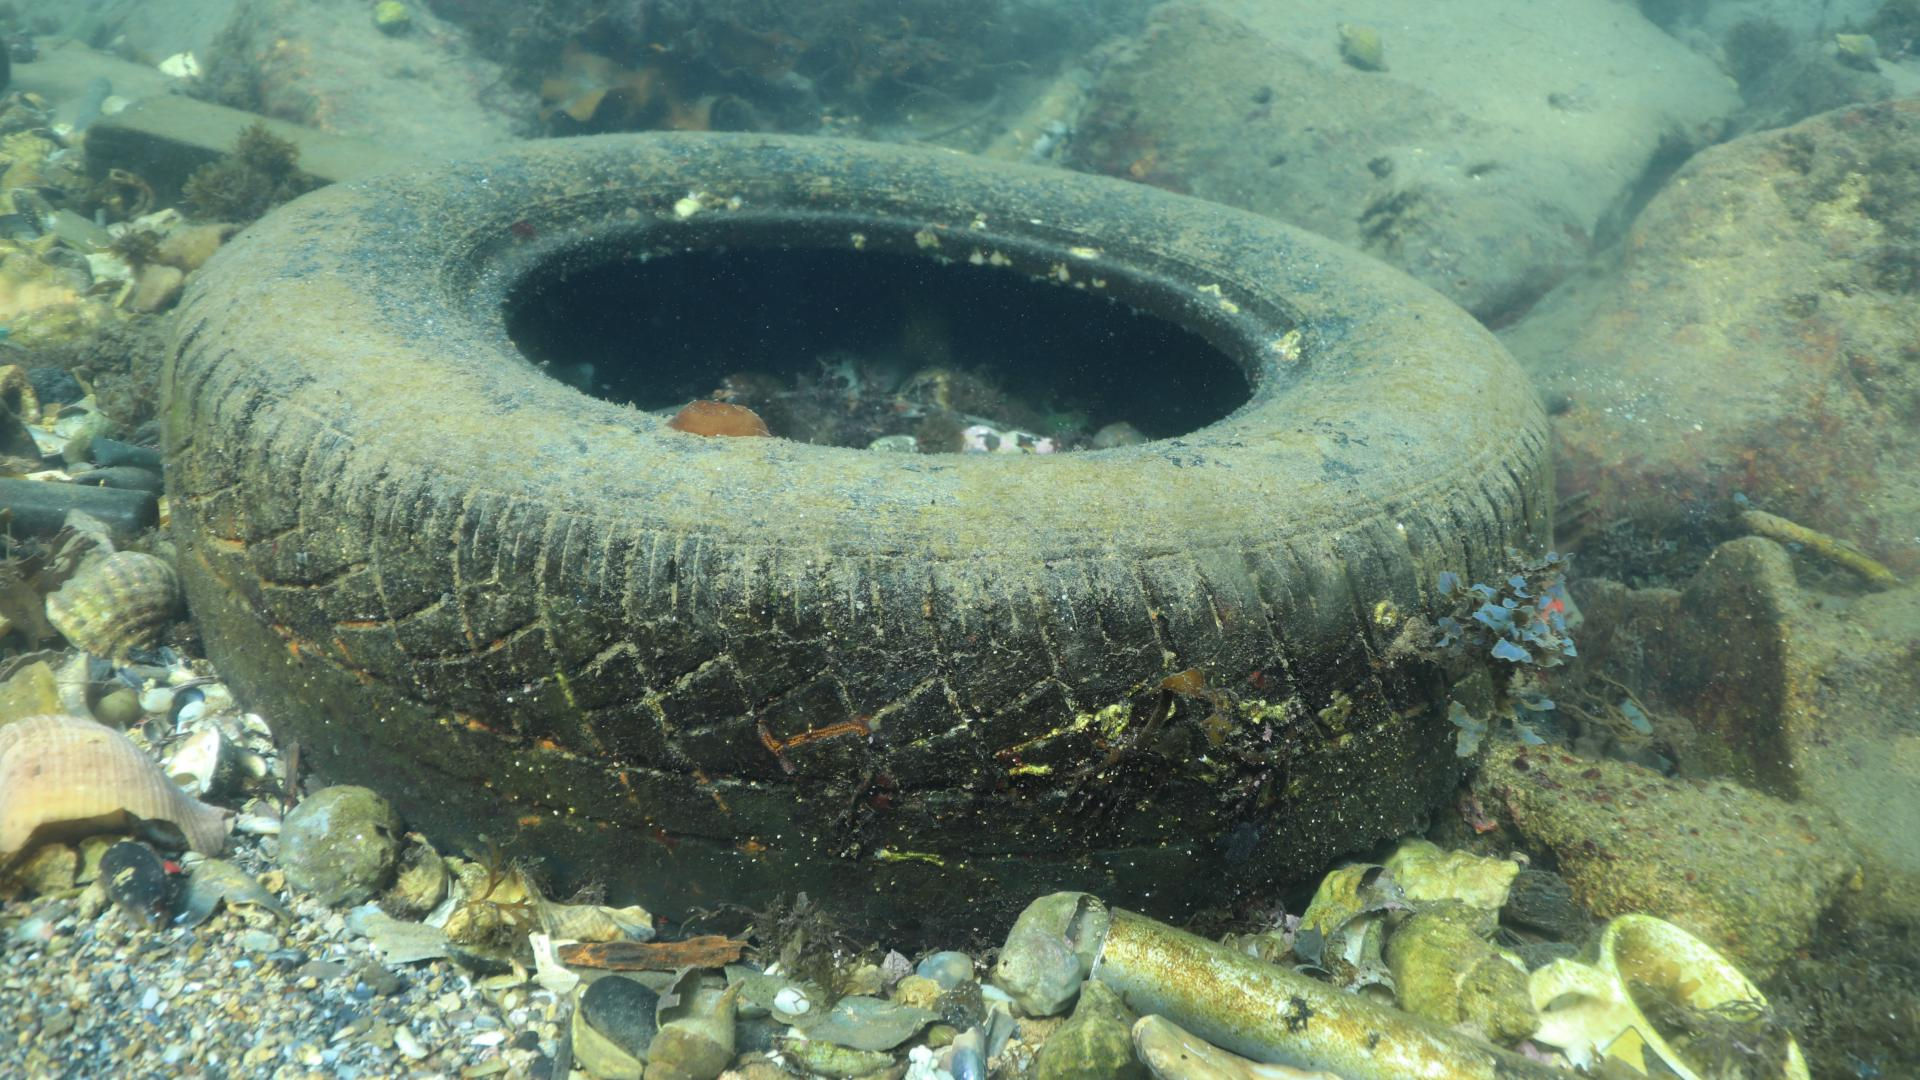tire: (160, 127, 1555, 961)
wood: (84, 87, 409, 200)
